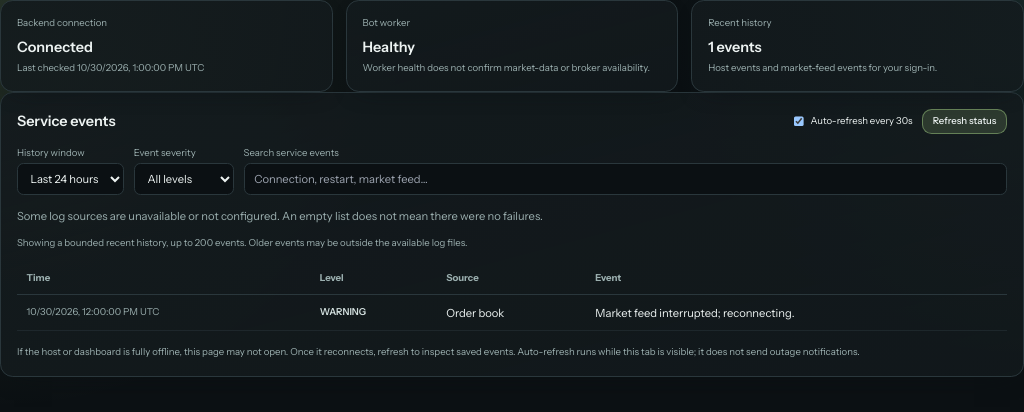
Scenario: service logs › labels incomplete sources and filters only the available history
Expected: the text "Some log sources are unavailable" is shown, [17,209,543,223]
Expected: the text "Showing a bounded recent history" is shown, [17,236,468,248]
Select "Errors" in the dropdown labelled "Event severity" at x=184, y=179, box [134,163,234,195]
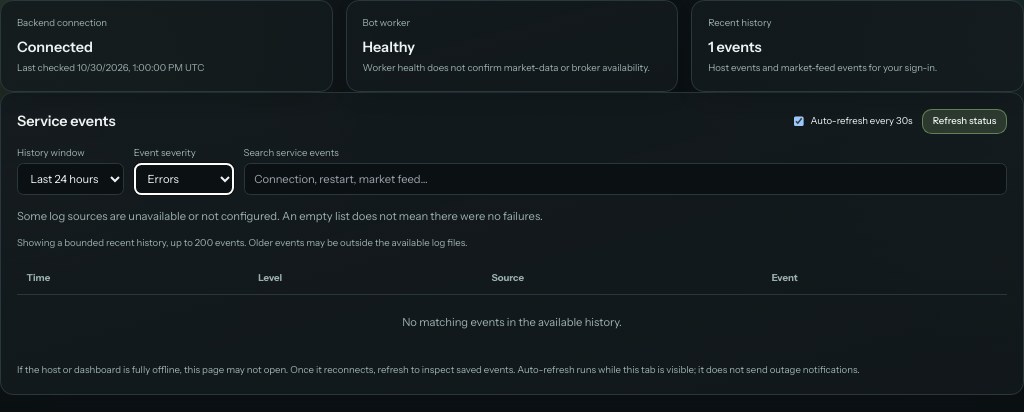
Result: the text "No matching events in the available history." is shown at [402,315,622,329]
